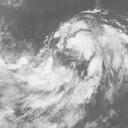cyclone: (5, 10, 125, 105)
